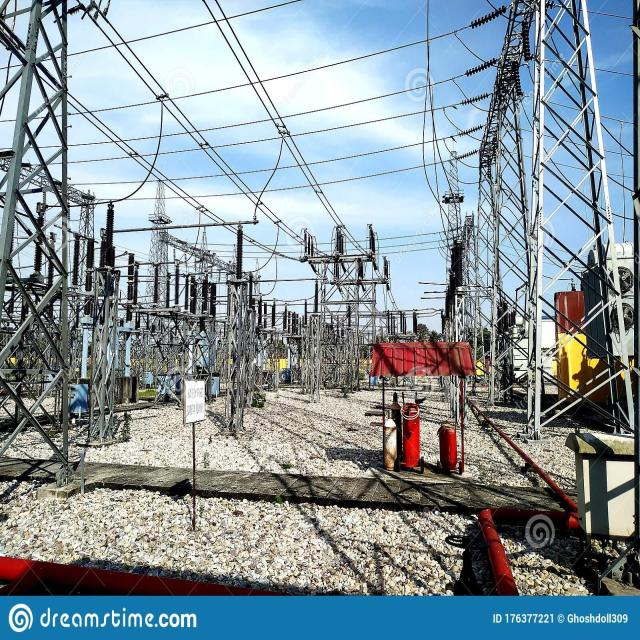fire_extinguisher: (395, 393, 423, 471), (432, 413, 463, 477)
